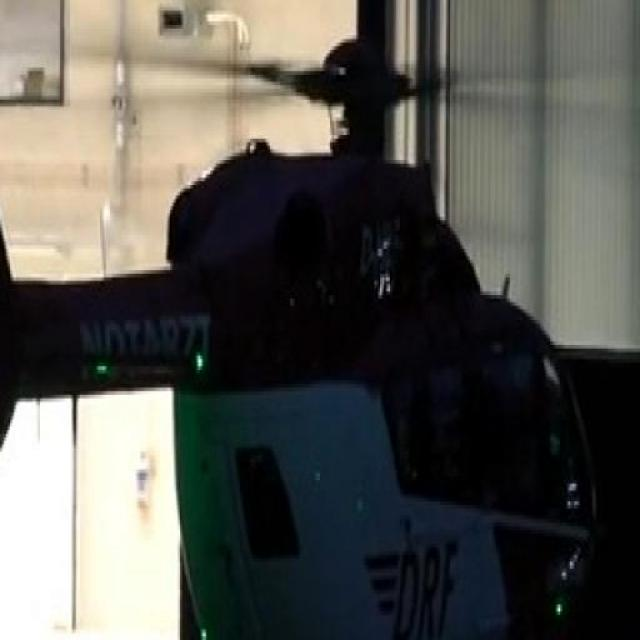drone: (0, 0, 608, 640)
